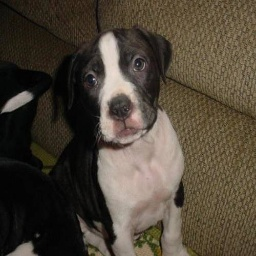dog: (44, 31, 197, 256)
